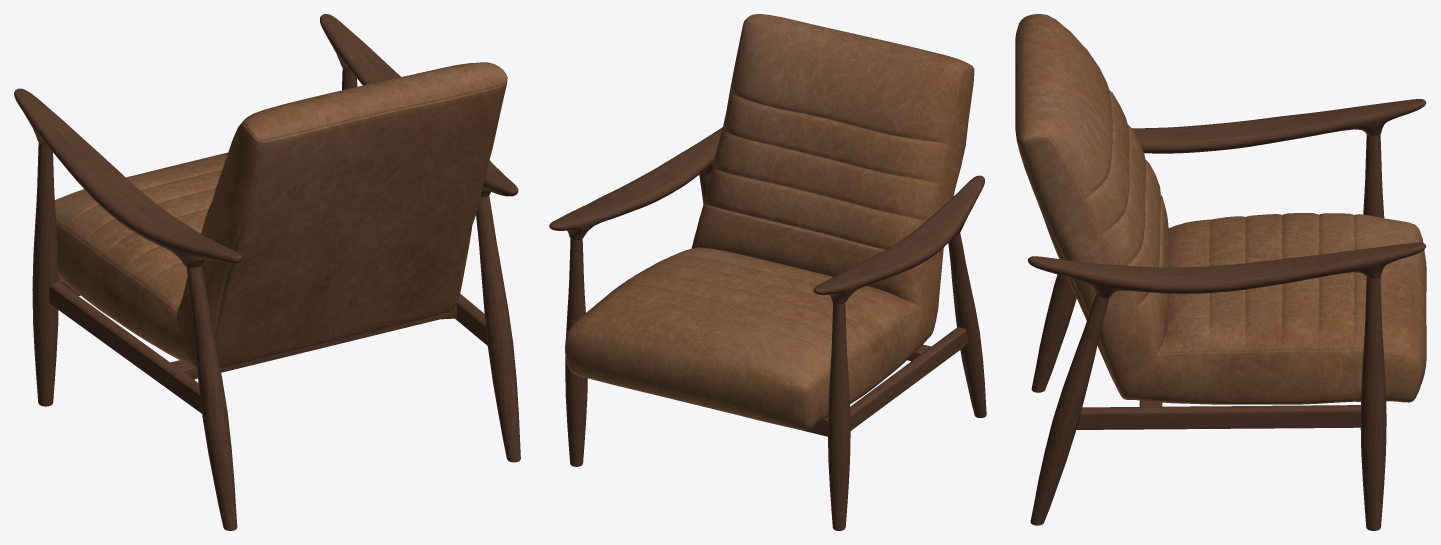
The model's file is abo_B082QD61D9.glb.
The picture shows the model from 3 angles, left to right: view 1: azimuth 30°, elevation 25°; view 2: azimuth 150°, elevation 25°; view 3: azimuth 270°, elevation 25°; orthographic projection. The views are drawn at different scales.
Parts seen in each view (by area): view 1: RootNode; view 2: RootNode; view 3: RootNode.
Boxes of the visible parts, <box> form: RootNode: <box>14,14,520,530</box>; RootNode: <box>549,14,986,530</box>; RootNode: <box>1015,14,1426,530</box>.
Size of the model in its own units: 0.7412 by 0.8323 by 0.7979.
1 material, 1 textured.
